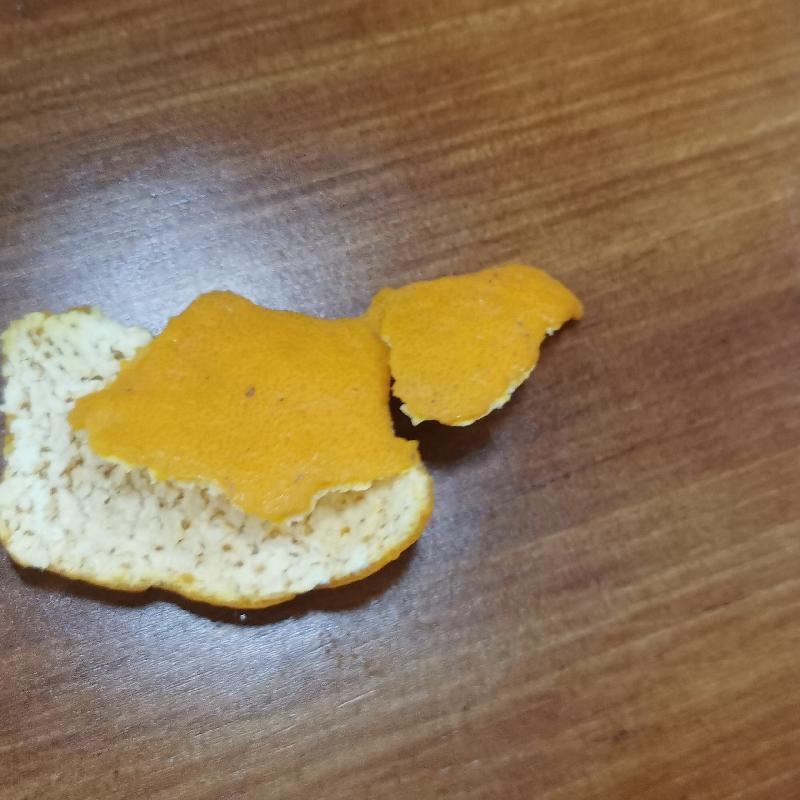orange: (2, 257, 588, 613)
